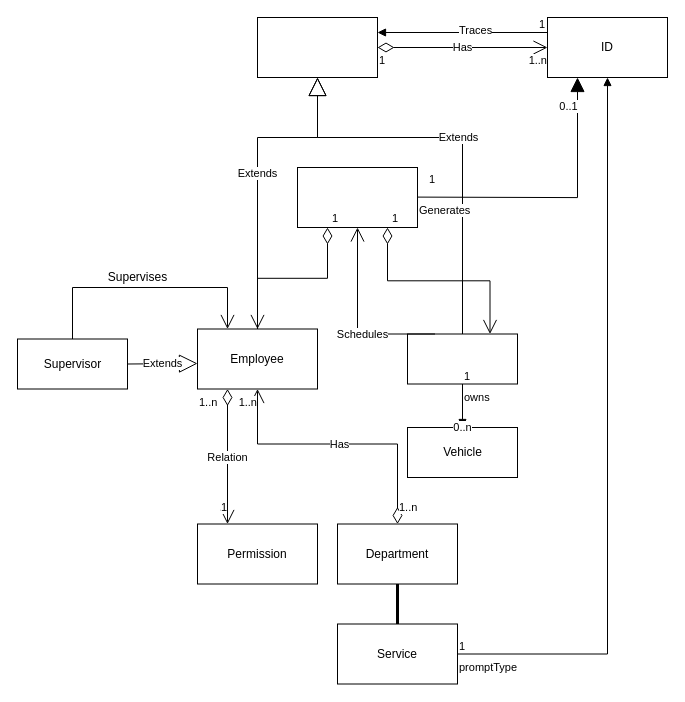
This 685x702 diagram has some shape labels left out. The shapes that lost their labels are listed below. From the top down, each one's centre as x and y in pixels, then its label:
At pixel 317 47: "Associate".
At pixel 357 197: "Appointment".
At pixel 462 358: "Customer".
